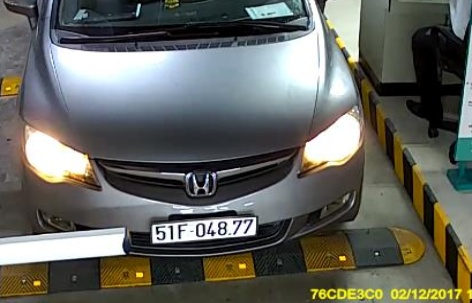plate: (148, 214, 258, 241)
